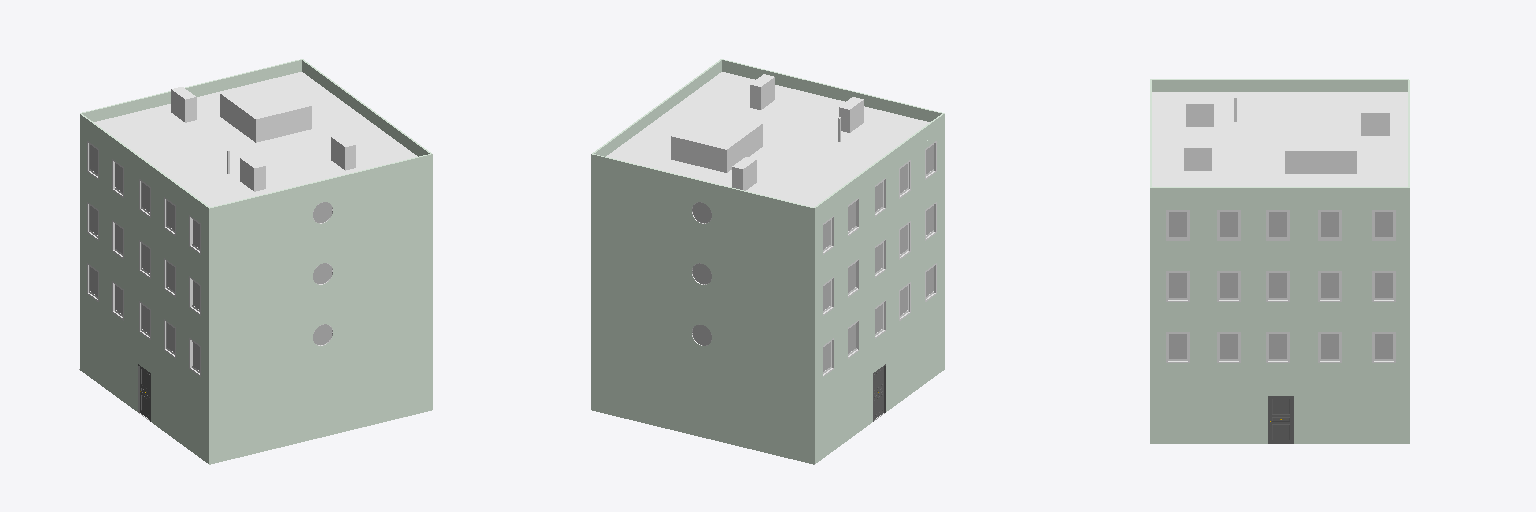
File: building2.obj
3 views of the same model, side by side, from view 1: azimuth 30°, elevation 25°; view 2: azimuth 150°, elevation 25°; view 3: azimuth 270°, elevation 25° (orthographic).
Visible parts, largest first — view 1: room_25_126, wall_2_11, wall_6_35, wall_10_59, wall_14_83, wall_13_77, wall_1_5, wall_5_29, wall_9_53, wall_18_107, wall_20_118, top_422 (+4 smaller); view 2: room_25_126, wall_4_23, wall_8_47, wall_12_71, wall_16_95, wall_13_77, wall_5_29, wall_1_5, wall_9_53, wall_20_119, wall_18_106, top_422 (+4 smaller); view 3: room_25_126, wall_15_89, wall_3_17, wall_7_41, wall_11_65, wall_19_113, wall_17_100, top_422, right_424, sweethome3d_opening_on_hinge_1_doorOutside_408, right_436, right_412 (+1 smaller).
Part boxes in pixels (bbox=[...]): room_25_126: bbox=[94, 72, 417, 206]; wall_2_11: bbox=[209, 291, 432, 405]; wall_6_35: bbox=[209, 230, 432, 344]; wall_10_59: bbox=[209, 169, 432, 283]; wall_14_83: bbox=[209, 352, 432, 464]; wall_13_77: bbox=[80, 312, 208, 463]; wall_1_5: bbox=[80, 251, 208, 405]; wall_5_29: bbox=[80, 190, 208, 344]; wall_9_53: bbox=[80, 129, 208, 283]; wall_18_107: bbox=[209, 154, 432, 222]; wall_20_118: bbox=[82, 60, 301, 121]; top_422: bbox=[220, 80, 310, 118]; room_25_126: bbox=[606, 72, 929, 207]; wall_4_23: bbox=[591, 291, 813, 405]; wall_8_47: bbox=[591, 230, 813, 344]; wall_12_71: bbox=[591, 169, 813, 283]; wall_16_95: bbox=[591, 352, 813, 464]; wall_13_77: bbox=[814, 311, 944, 463]; wall_5_29: bbox=[814, 189, 944, 344]; wall_1_5: bbox=[814, 250, 944, 405]; wall_9_53: bbox=[814, 128, 944, 283]; wall_20_119: bbox=[591, 154, 813, 222]; wall_18_106: bbox=[722, 60, 941, 121]; top_422: bbox=[672, 110, 762, 149]; room_25_126: bbox=[1152, 92, 1407, 186]; wall_15_89: bbox=[1150, 386, 1409, 443]; wall_3_17: bbox=[1150, 325, 1409, 385]; wall_7_41: bbox=[1150, 264, 1409, 324]; wall_11_65: bbox=[1150, 203, 1409, 263]; wall_19_113: bbox=[1150, 188, 1409, 202]; wall_17_100: bbox=[1152, 80, 1407, 91]; top_422: bbox=[1285, 123, 1356, 150]; right_424: bbox=[1285, 151, 1356, 173]; sweethome3d_opening_on_hinge_1_doorOutside_408: bbox=[1269, 397, 1292, 443]; right_436: bbox=[1361, 113, 1389, 135]; right_412: bbox=[1186, 104, 1213, 126].
Bounding box in the file's own units: 1003 × 1148 × 1013.